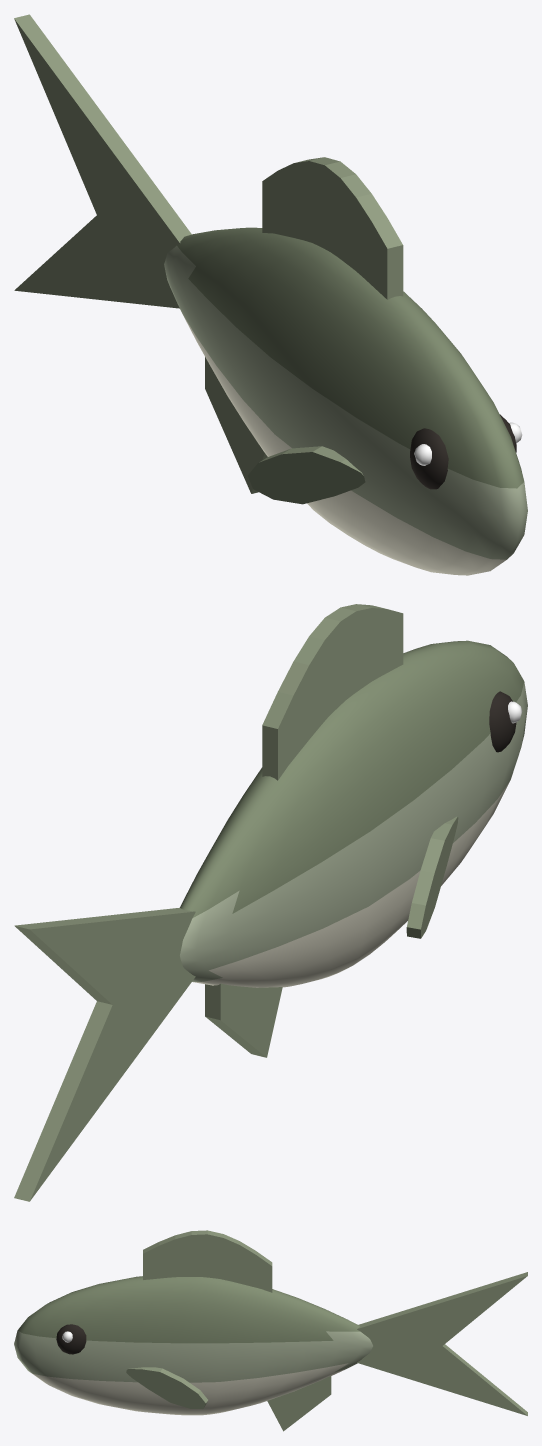
Rendered from fish-crucian.glb.
3 renders of one model, top to bottom at view 1: azimuth 30°, elevation 25°; view 2: azimuth 150°, elevation 25°; view 3: azimuth 270°, elevation 25°, orthographic. The views are drawn at different scales.
Parts seen in each view (by area): view 1: fish; view 2: fish; view 3: fish.
Boxes of the visible parts, x1,y1,x2,y2 form: fish: (14,14,527,575); fish: (14,604,527,1201); fish: (14,1230,527,1431).
Size of the model in its own units: 0.0662 by 0.1397 by 0.33.
